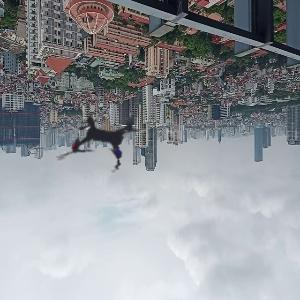drone: (33, 72, 172, 211)
